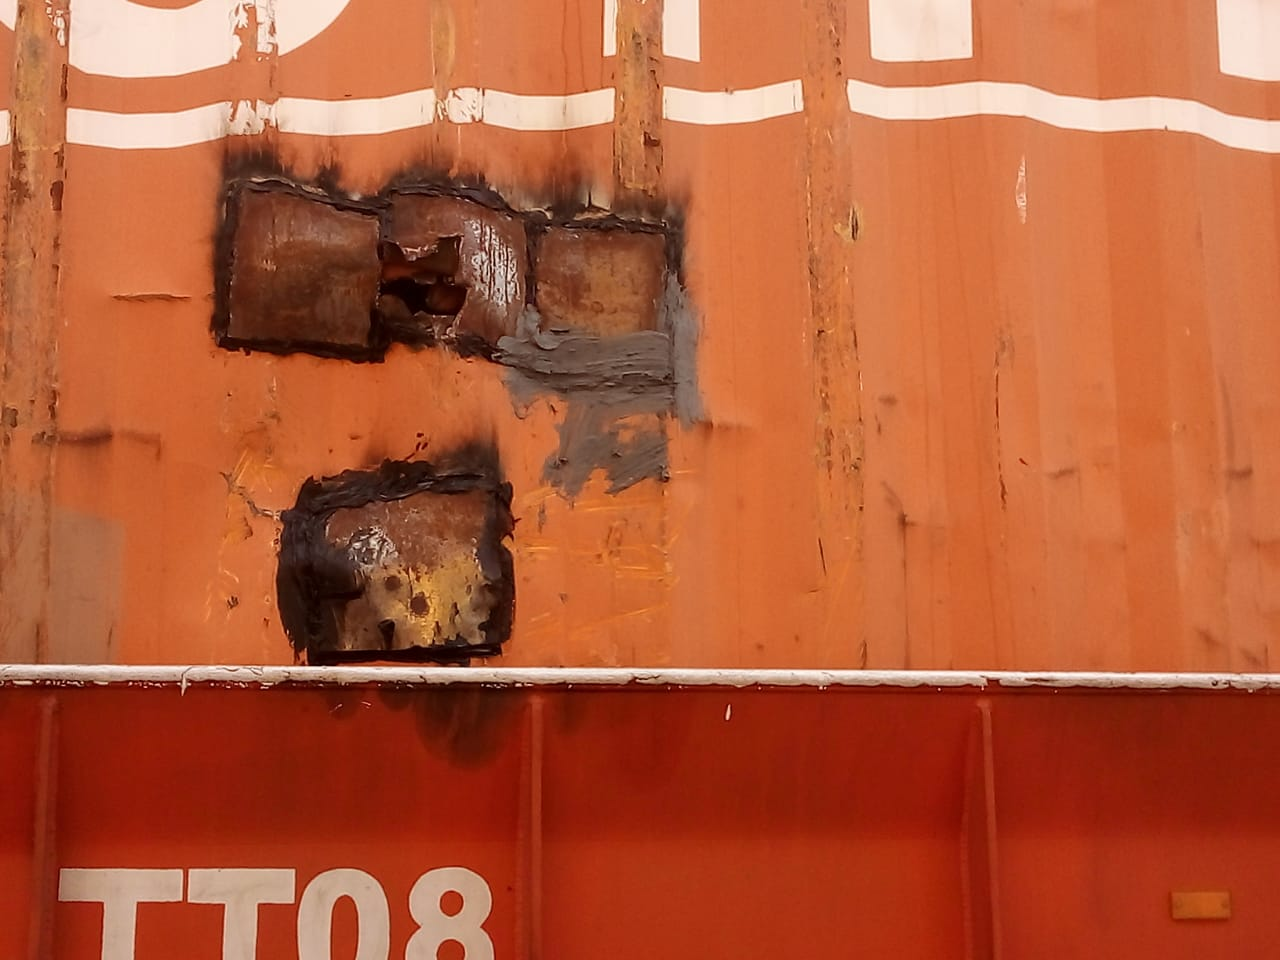cut: (175, 155, 715, 431), (232, 442, 557, 672)
